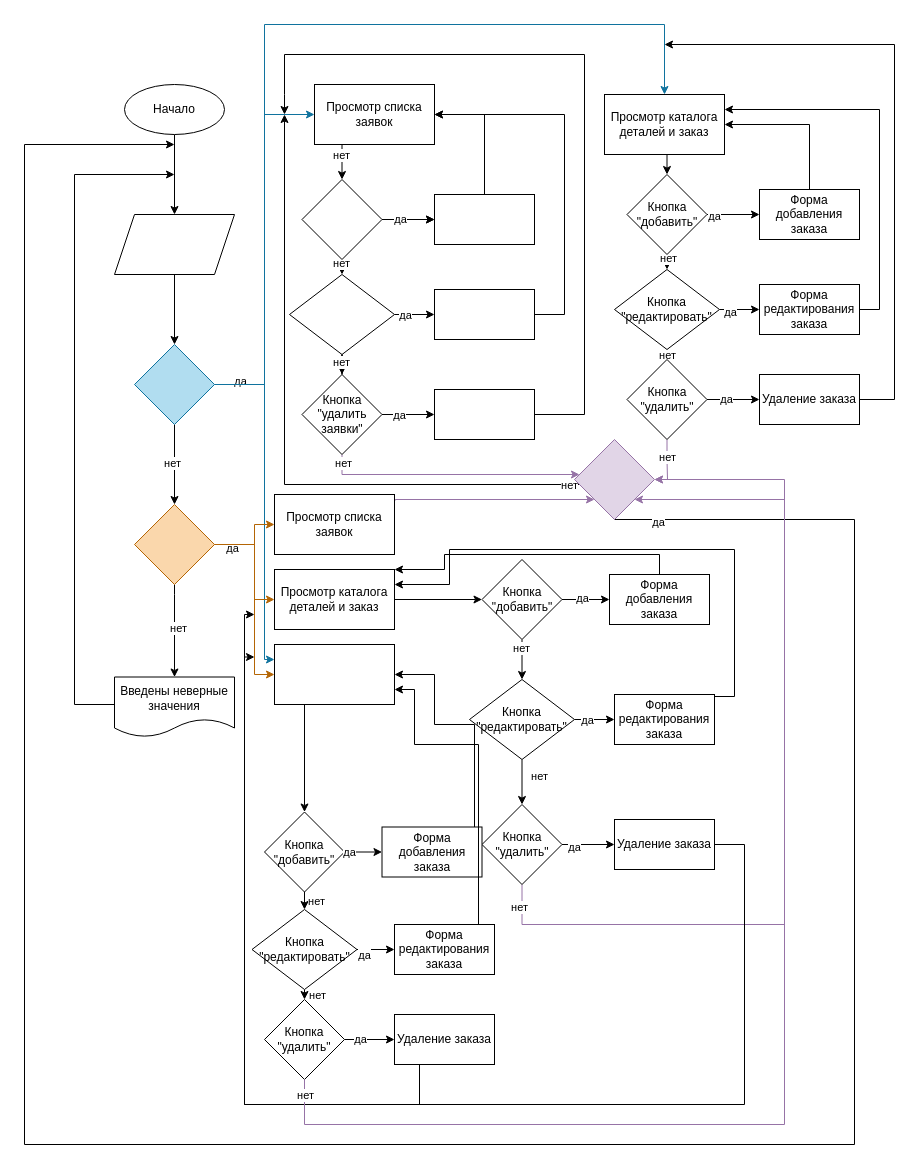
Image size: 920x1172. Some labels were removed from this diagram. The box of each missing label's shape, as (x1, y1, x2, y2) in pixels:
Кнопка "редактировать заявки": (288, 274, 394, 354)
Кнопка "сменить роль": (574, 438, 654, 520)
Кнопка "создать заявку": (301, 178, 382, 260)
Логин, Пароль: (114, 214, 234, 274)
Менеджер: (134, 344, 214, 424)
Просмотр отчётов: (274, 644, 394, 704)
Работник: (134, 504, 214, 584)
Удаление заявки: (434, 388, 534, 440)
Форма редактирования заявки: (434, 288, 534, 340)
Форма создания заявки: (434, 194, 534, 244)
